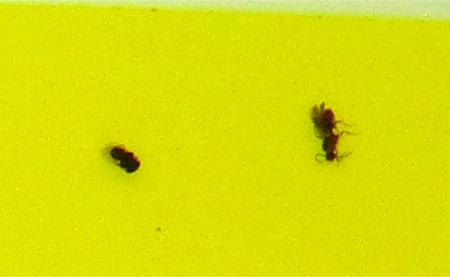Hymenoptera: (307, 100, 350, 165), (100, 141, 143, 177)
